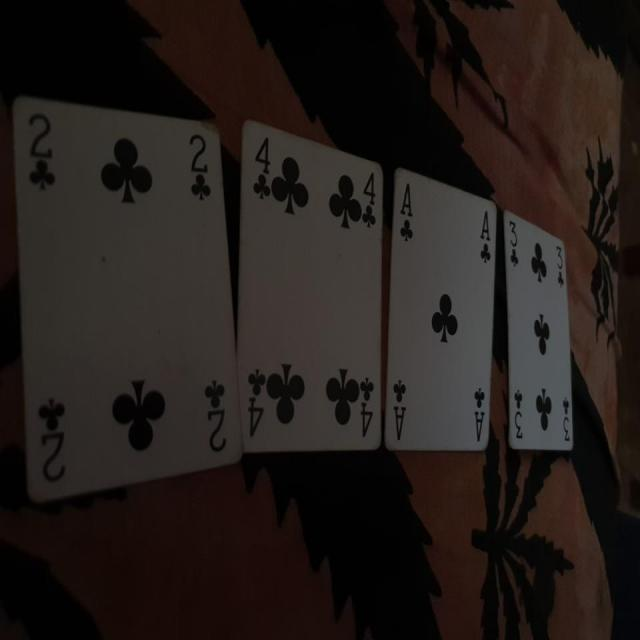2 Trefoils: (13, 94, 245, 503)
3 Trefoils: (504, 209, 575, 452)
4 Trefoils: (235, 119, 384, 454)
A Trefoils: (384, 164, 497, 450)
